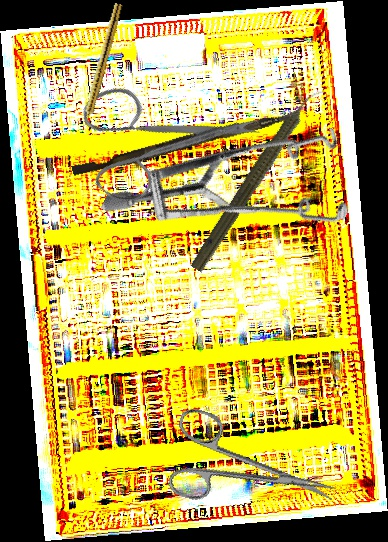Handpiece: (186, 79, 329, 278), (79, 2, 123, 129)
Iris Scissors: (50, 25, 267, 243), (158, 405, 347, 539)
Pusher: (71, 102, 300, 182)
Speculum: (100, 52, 378, 307)
